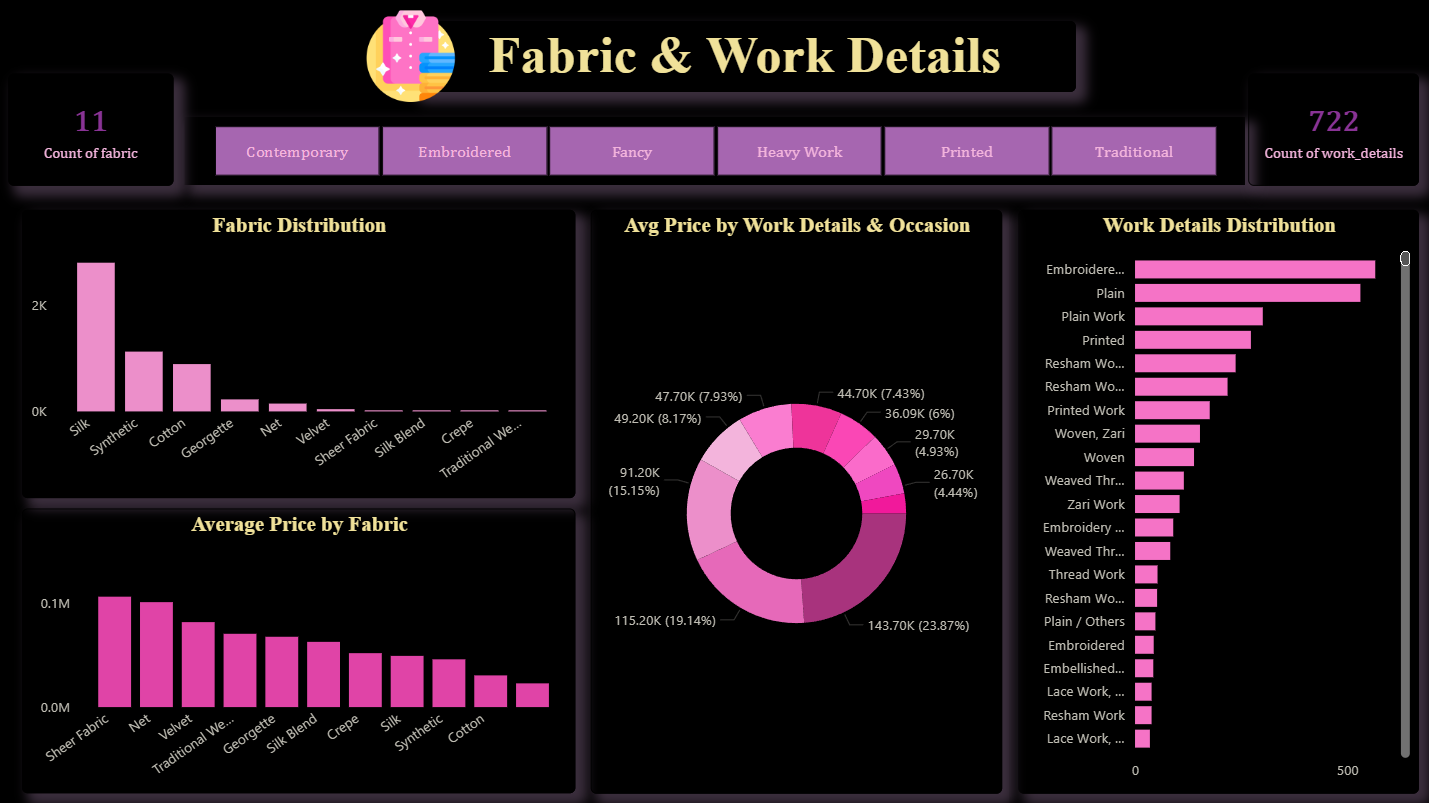

This screenshot's page, from the dashboard's own definition file:
{"tool":"powerbi","page":{"name":"Fabric & Work Details","canvas":[1280,720],"ordinal":3},"visuals":[{"type":"textbox","title":"Fabric & Work Details","box":[369.1,22,591.4,63.1],"z":0},{"type":"clusteredColumnChart","title":"Fabric Distribution","fields":{"Category":["Wardrobe Assistant.fabric"],"Y":["Count(Wardrobe Assistant.product_name)"]},"box":[22,190.7,492.6,256.6],"z":1000},{"type":"columnChart","title":"Average Price by Fabric","fields":{"Category":["Wardrobe Assistant.fabric"],"Y":["Avg(Wardrobe Assistant.price_pkr)"]},"box":[22,456.9,492.6,253.9],"z":2000},{"type":"clusteredBarChart","title":" Work Details Distribution","fields":{"Category":["Wardrobe Assistant.work_details"],"Y":["Count(Wardrobe Assistant.product_name)"]},"box":[909.8,190.7,356.8,520.1],"z":3000},{"type":"donutChart","title":"Avg Price by Work Details & Occasion","fields":{"Category":["Wardrobe Assistant.work_details"],"Series":["Wardrobe Assistant.occasion"],"Y":["Avg(Wardrobe Assistant.price_pkr)"]},"box":[528.3,190.7,366.4,520.1],"z":4000},{"type":"slicer","fields":{"Values":["Wardrobe Assistant.Category Style"]},"box":[167.4,108.4,944.1,60.4],"z":5000},{"type":"card","fields":{"Values":["Count(Wardrobe Assistant.fabric)"]},"box":[9.6,68.6,146.8,100.2],"z":6000},{"type":"card","fields":{"Values":["Count(Wardrobe Assistant.work_details)"]},"box":[1114.2,68.6,152.3,100.2],"z":7000},{"type":"image","box":[323,0,91,107],"z":8000}]}

Visuals, with their boxes in screenshot pixels (x1, y1, x2, y2), scaled from the page's 1280x720 canvas onto the 1429x803 screenshot:
"Fabric & Work Details" textbox: 412/25/1072/95
"Fabric Distribution" clusteredColumnChart: 25/213/575/499
"Average Price by Fabric" columnChart: 25/510/575/793
" Work Details Distribution" clusteredBarChart: 1016/213/1414/793
"Avg Price by Work Details & Occasion" donutChart: 590/213/999/793
slicer - Wardrobe Assistant.Category Style: 187/121/1241/188
card - Count(Wardrobe Assistant.fabric): 11/77/175/188
card - Count(Wardrobe Assistant.work_details): 1244/77/1414/188
image: 361/0/462/119
